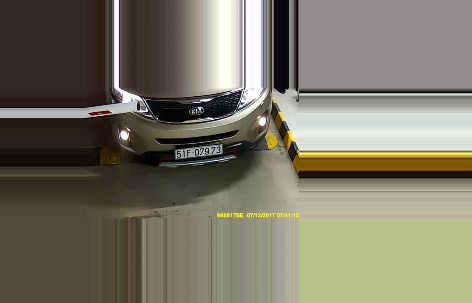plate: (175, 143, 225, 159)
